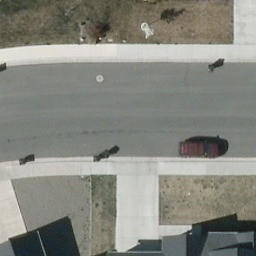car: (179, 142, 225, 158)
